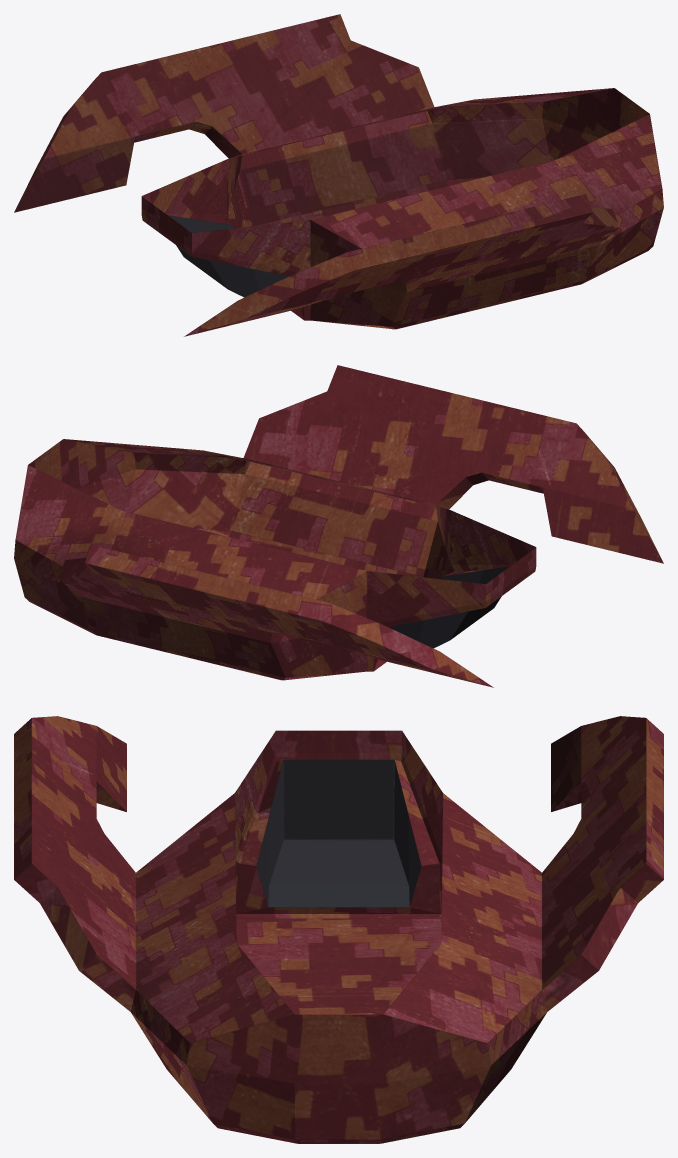
The model's file is laser_body.FBX.
The picture shows the model from 3 angles, top to bottom: view 1: azimuth 30°, elevation 25°; view 2: azimuth 150°, elevation 25°; view 3: azimuth 270°, elevation 25°; orthographic projection. The views are drawn at different scales.
Visible parts, largest first — view 1: Plane001; view 2: Plane001; view 3: Plane001.
Boxes of the visible parts, x1,y1,x2,y2 form: Plane001: (14, 14, 663, 336); Plane001: (14, 365, 663, 687); Plane001: (14, 716, 663, 1143).
Size of the model in its own units: 159 by 41.98 by 134.
Materials: 1 (1 with a texture image).
